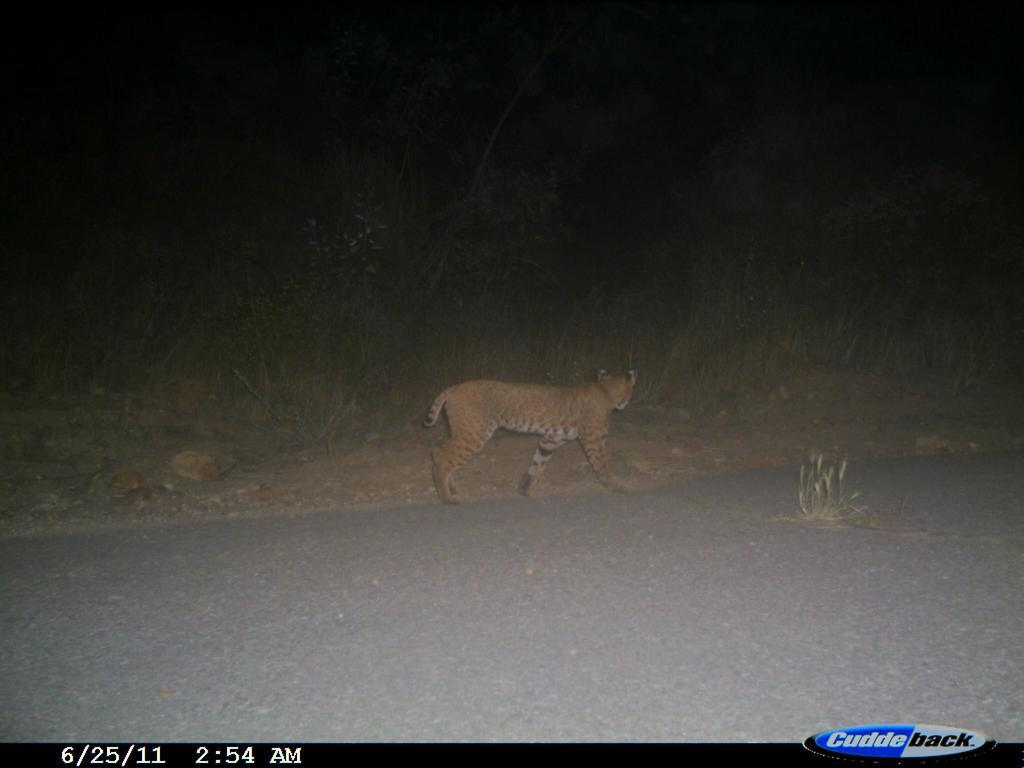bobcat: (423, 369, 646, 502)
